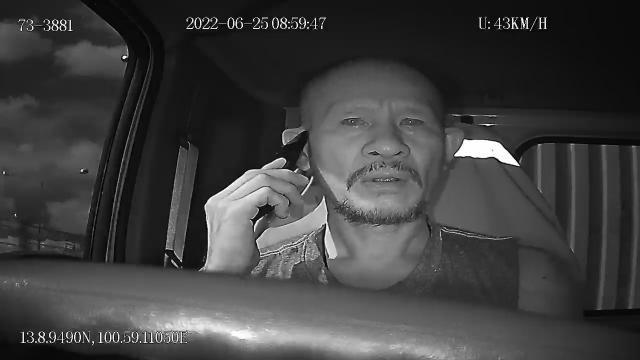PhoneUse: (256, 130, 310, 220)
SafeDriving: (392, 105, 432, 136), (334, 106, 376, 133)
